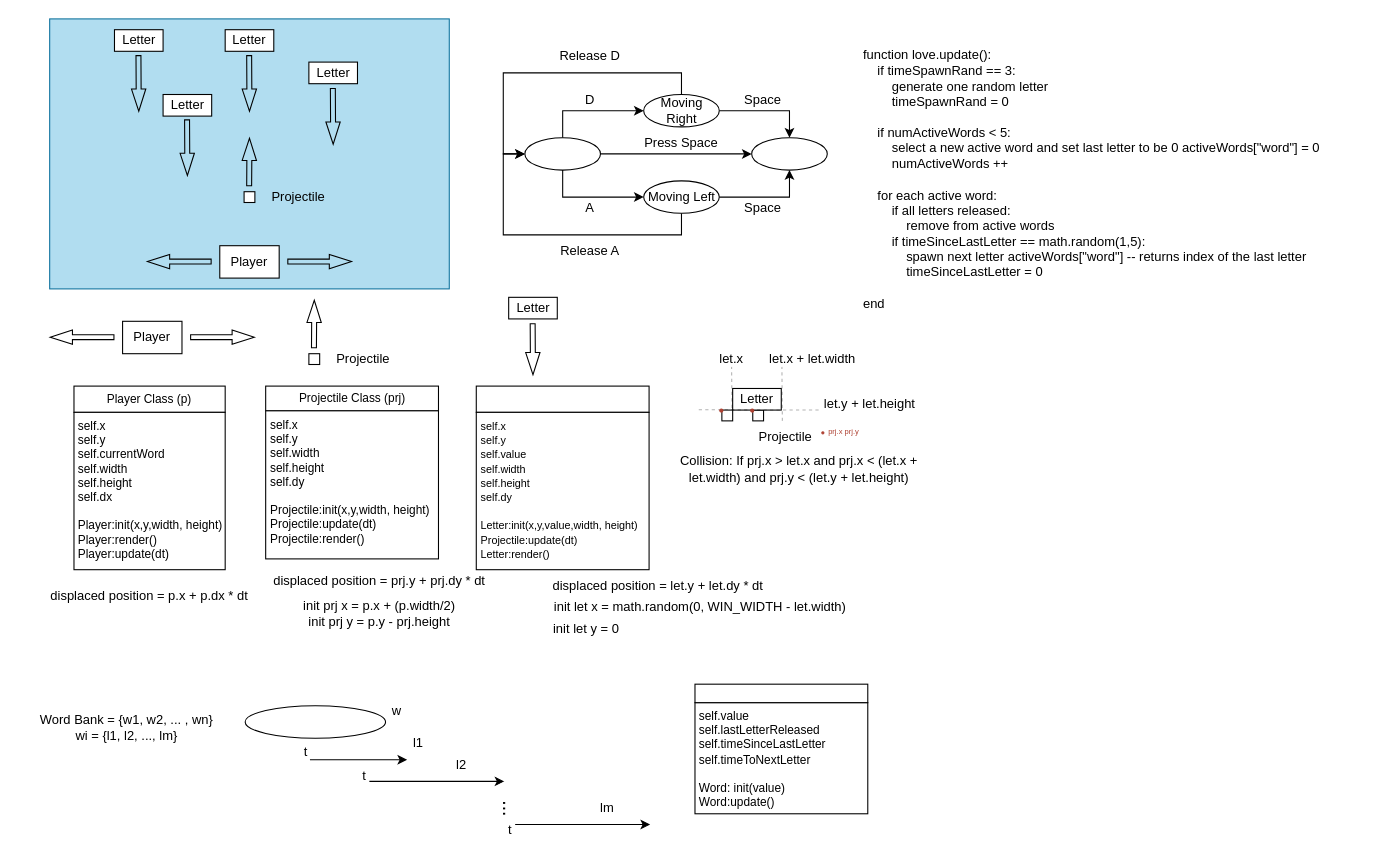
Image size: 1376x865. Some labels were removed from this diagram. The centre of each missing label's shape, as x and y in pixels:
"Idle" belongs at point (562, 153).
"Launch Projectile" belongs at point (789, 153).
"Letter Class (let)" belongs at point (562, 398).
"Release New Word" belongs at point (315, 721).
"Word Class (w)" belongs at point (781, 693).
